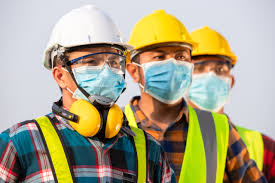Helmet: (42, 13, 122, 55), (129, 8, 195, 55), (179, 25, 243, 66)
Jacket: (127, 108, 266, 182)
Mask: (67, 64, 143, 112), (141, 65, 200, 108), (189, 77, 235, 107)
